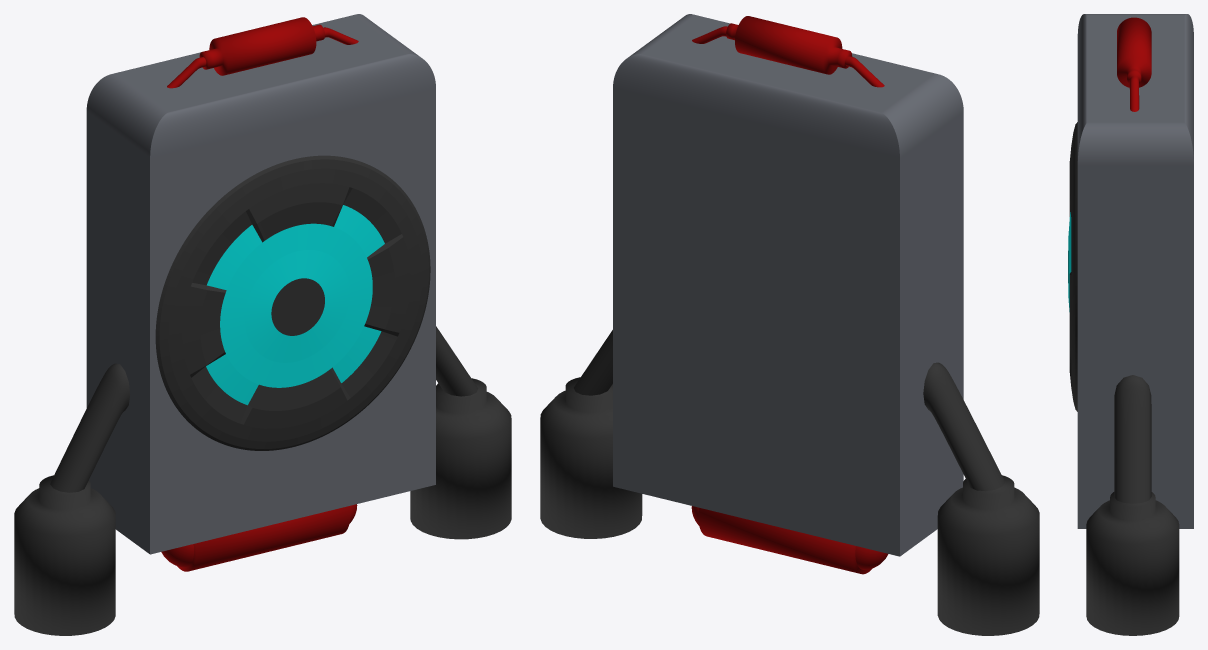
Rendered from jetpack_low_poly__modern_jetpack.glb.
3 renders of one model, left to right at view 1: azimuth 30°, elevation 25°; view 2: azimuth 150°, elevation 25°; view 3: azimuth 270°, elevation 25°, orthographic. The views are drawn at different scales.
Visible parts, largest first — view 1: Cube, Sphere, Cylinder.001, Cylinder, NurbsPath.002, Cylinder.003, Cylinder.002, NurbsPath.001; view 2: Cube, Cylinder.001, Cylinder, NurbsPath.002, Cylinder.002, Cylinder.003, NurbsPath.001; view 3: Cube, Cylinder, NurbsPath.002, Sphere, Cylinder.003, NurbsPath.001.
Boxes of the visible parts, x1=… form: Cube: x1=86, y1=14, x2=435, y2=554; Sphere: x1=155, y1=155, x2=430, y2=450; Cylinder.001: x1=14, y1=475, x2=115, y2=635; Cylinder: x1=410, y1=378, x2=511, y2=539; NurbsPath.002: x1=50, y1=326, x2=478, y2=492; Cylinder.003: x1=199, y1=17, x2=324, y2=75; Cylinder.002: x1=177, y1=506, x2=350, y2=571; NurbsPath.001: x1=167, y1=27, x2=358, y2=88; Cube: x1=613, y1=14, x2=963, y2=556; Cylinder.001: x1=937, y1=475, x2=1039, y2=635; Cylinder: x1=540, y1=377, x2=642, y2=538; NurbsPath.002: x1=565, y1=330, x2=1004, y2=491; Cylinder.002: x1=698, y1=508, x2=872, y2=574; Cylinder.003: x1=726, y1=16, x2=852, y2=74; NurbsPath.001: x1=692, y1=26, x2=884, y2=87; Cube: x1=1077, y1=14, x2=1193, y2=528; Cylinder: x1=1086, y1=492, x2=1179, y2=635; NurbsPath.002: x1=1114, y1=375, x2=1151, y2=519; Sphere: x1=1068, y1=122, x2=1077, y2=411; Cylinder.003: x1=1117, y1=17, x2=1151, y2=87; NurbsPath.001: x1=1129, y1=76, x2=1139, y2=111.
Size of the model in its own units: 2.2 by 2.33 by 0.5419.
